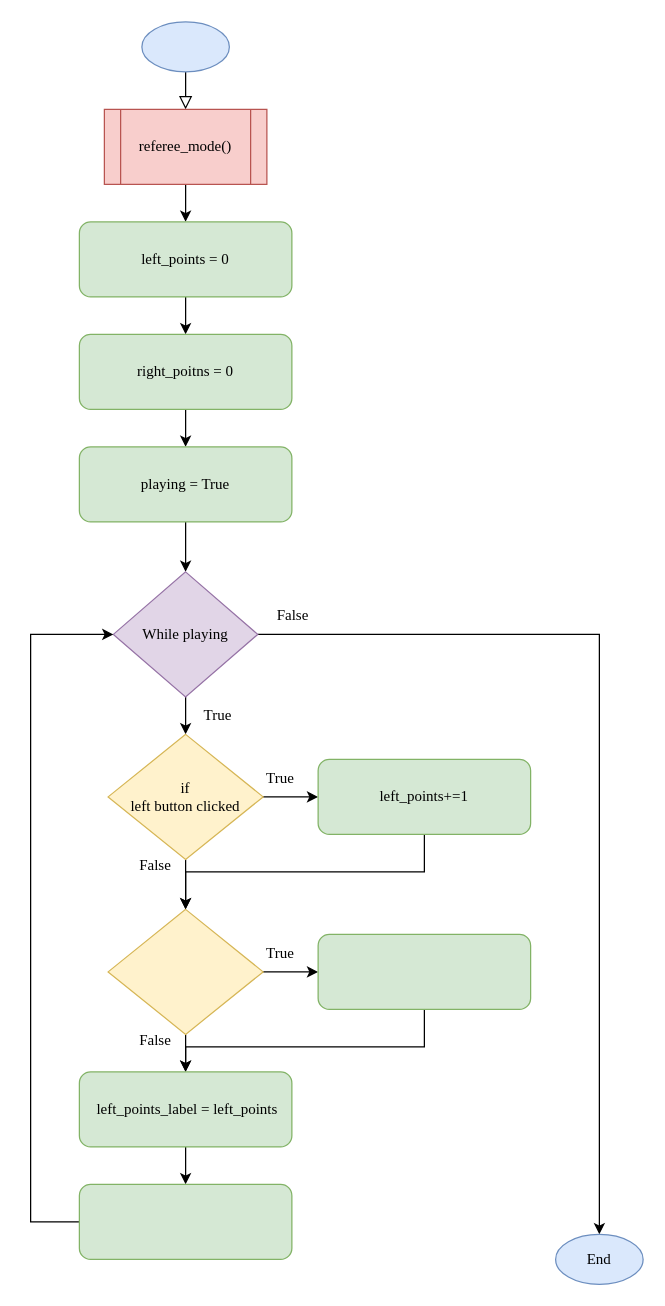
The diagram is 665 pixels wide and 1306 high, and some of its shapes have lost their labels. Here are the shapes that lost their labels. From the top down, the box of each, then its label:
(141, 21, 229, 72): Start
(107, 908, 263, 1034): if right button clicked
(317, 933, 531, 1009): right_points+=1
(78, 1183, 292, 1259): right_points_label = right _points
